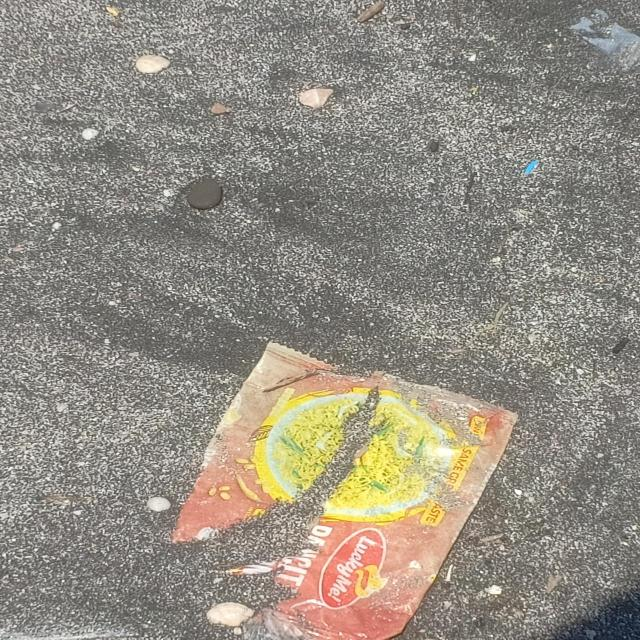plastic_waste: (169, 339, 521, 640)
